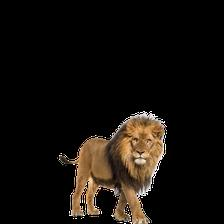Lion: (52, 114, 167, 224)
